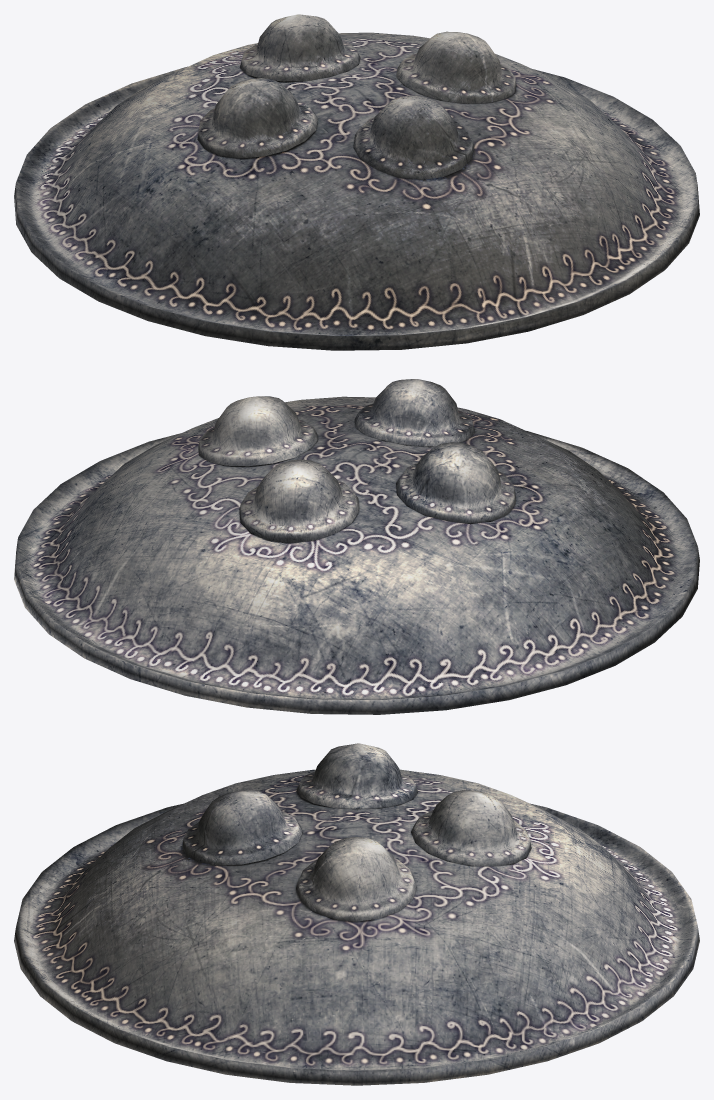
The model's file is Buckler_C.FBX.
The picture shows the model from 3 angles, top to bottom: view 1: azimuth 30°, elevation 25°; view 2: azimuth 150°, elevation 25°; view 3: azimuth 270°, elevation 25°; orthographic projection.
Parts seen in each view (by area): view 1: Bulcker_C; view 2: Bulcker_C; view 3: Bulcker_C.
Part boxes in pixels (bbox=[...]): Bulcker_C: bbox=[14, 14, 699, 350]; Bulcker_C: bbox=[14, 379, 699, 714]; Bulcker_C: bbox=[14, 743, 699, 1085].
Bounding box in the file's own units: 38.54 × 9.12 × 38.54.
